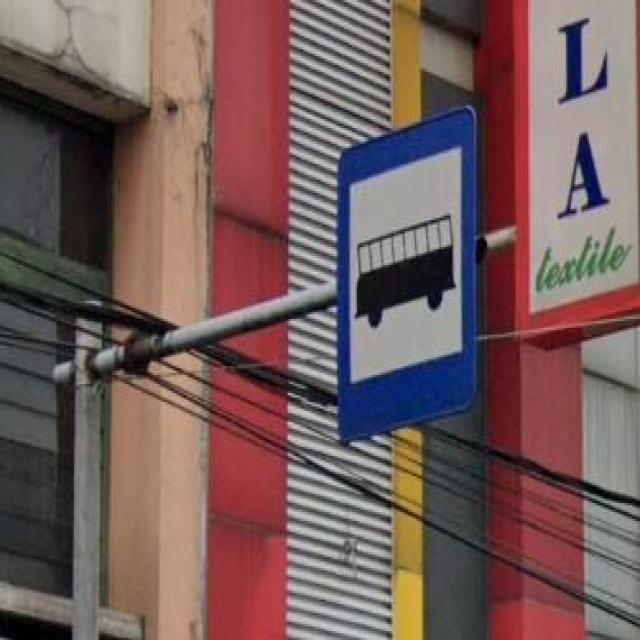traffic sign: (336, 108, 476, 440)
